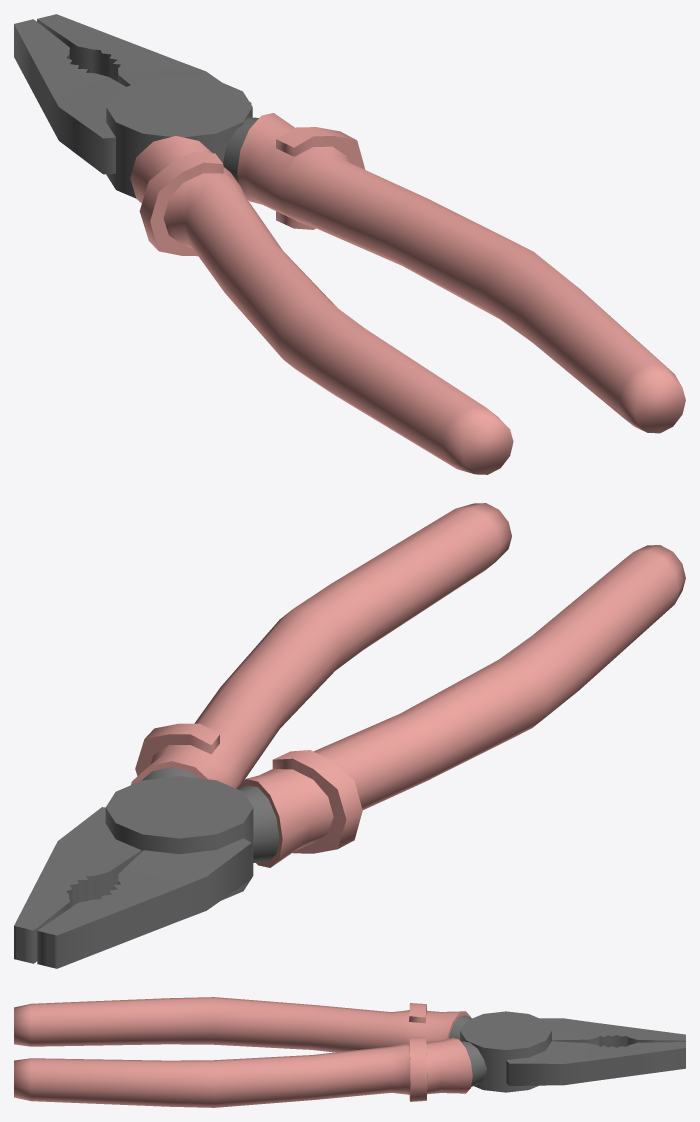
File: Alicate.fbx
3 views of the same model, one above another, from view 1: azimuth 30°, elevation 25°; view 2: azimuth 150°, elevation 25°; view 3: azimuth 270°, elevation 25° (orthographic). The views are drawn at different scales.
Visible parts, largest first — view 1: Alicate; view 2: Alicate; view 3: Alicate.
Boxes of the visible parts, x1=… form: Alicate: x1=14, y1=14, x2=685, y2=474; Alicate: x1=14, y1=503, x2=685, y2=968; Alicate: x1=14, y1=997, x2=685, y2=1107.
Size of the model in its own units: 17.12 by 5.69 by 58.59.
